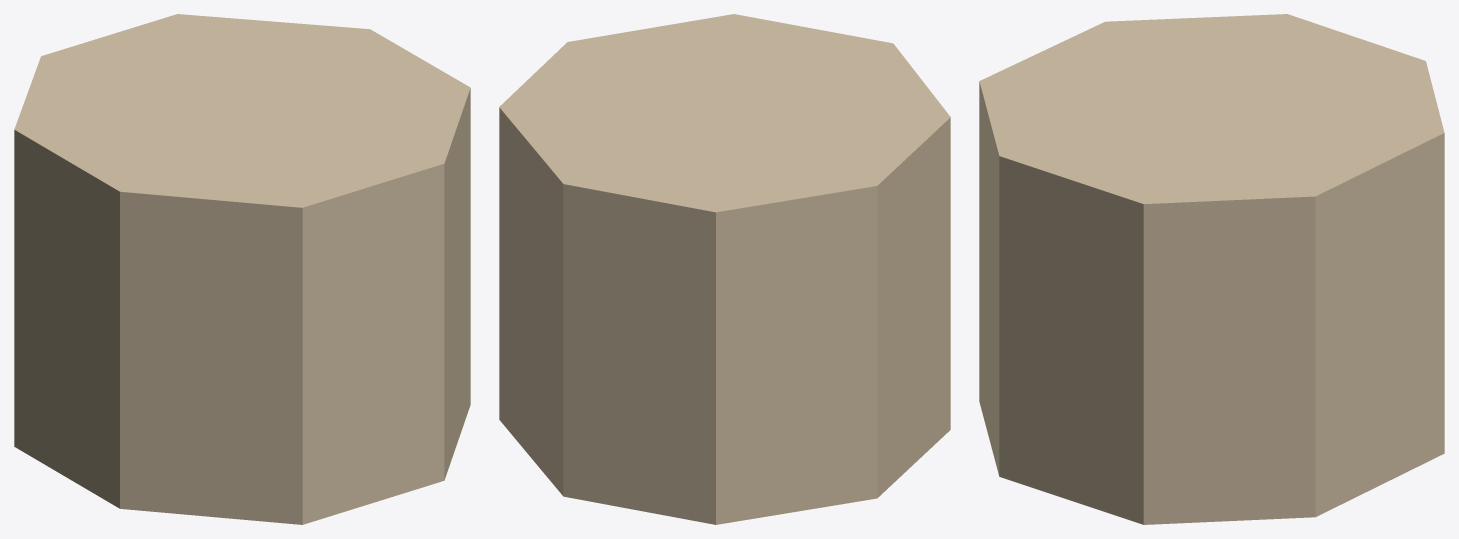
File: -13_16-estimated-coarse.glb
The picture shows the model from 3 angles, left to right: view 1: azimuth 30°, elevation 25°; view 2: azimuth 150°, elevation 25°; view 3: azimuth 270°, elevation 25°; orthographic projection. The views are drawn at different scales.
Bounding box in the file's own units: 15.26 × 12 × 15.77.
